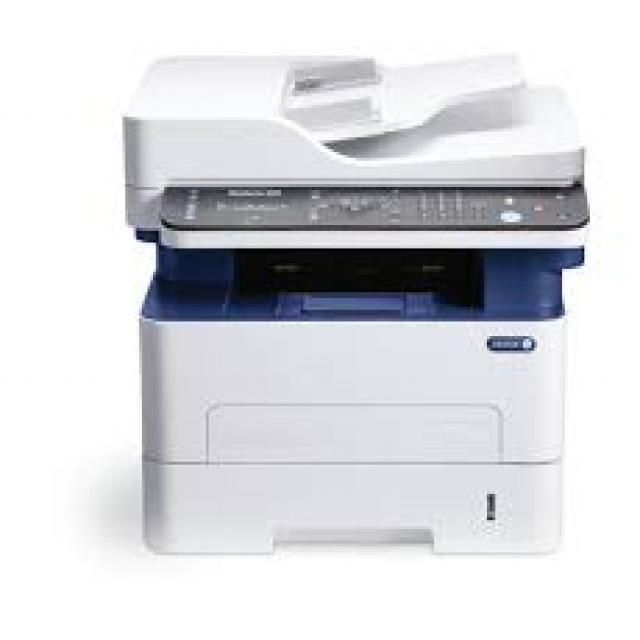printer: (38, 10, 629, 593)
